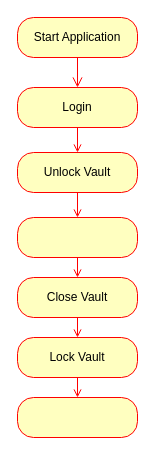
The diagram is 155 pixels wide and 455 high, and some of its shapes have lost their labels. Here are the shapes that lost their labels. From the top down, the box of each, then its label:
(16, 216, 138, 258): Open Vault
(16, 396, 138, 438): Add/Modify Accounts
